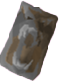dragonshield: (1, 1, 59, 81)
